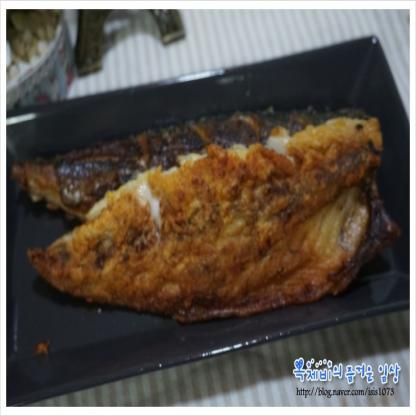Peixe: (15, 86, 380, 350)
